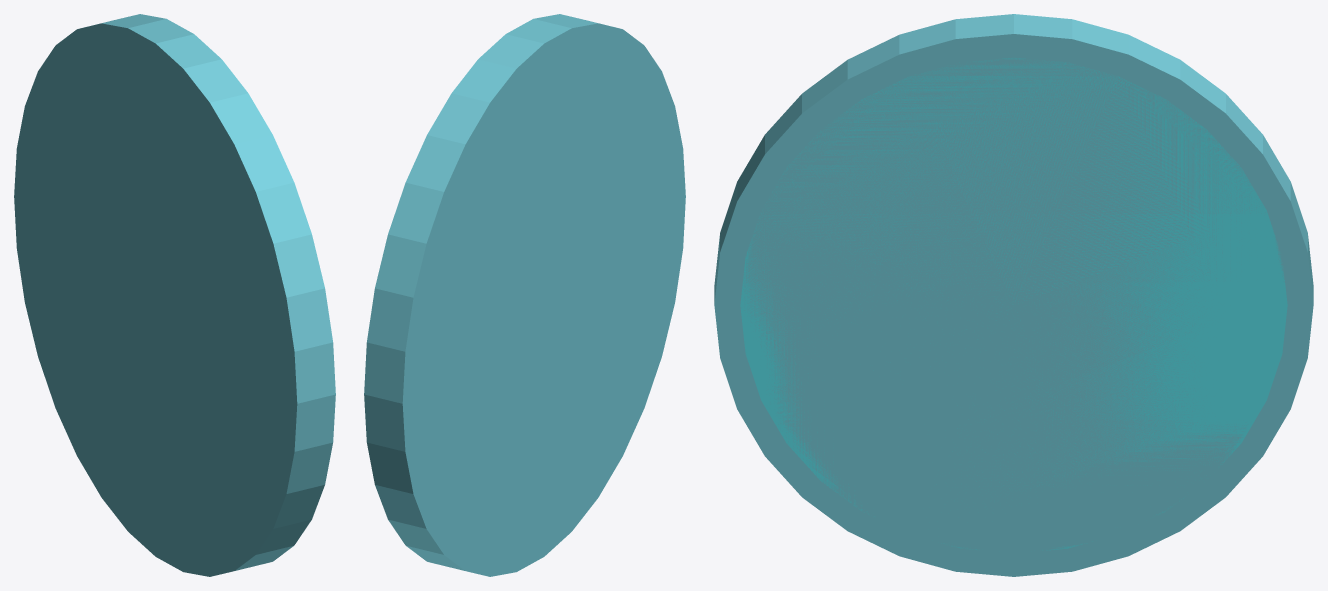
Rendered from beam_sampler.glb.
The picture shows the model from 3 angles, left to right: view 1: azimuth 30°, elevation 25°; view 2: azimuth 150°, elevation 25°; view 3: azimuth 270°, elevation 25°; orthographic projection. The views are drawn at different scales.
Parts seen in each view (by area): view 1: beam_sampler; view 2: beam_sampler; view 3: beam_sampler.
Part boxes in pixels (left/top/right/bottom): beam_sampler: left=14, top=14, right=335, bottom=576; beam_sampler: left=364, top=14, right=685, bottom=576; beam_sampler: left=714, top=14, right=1313, bottom=576.
Bounding box in the file's own units: 1 × 12.7 × 12.7.
